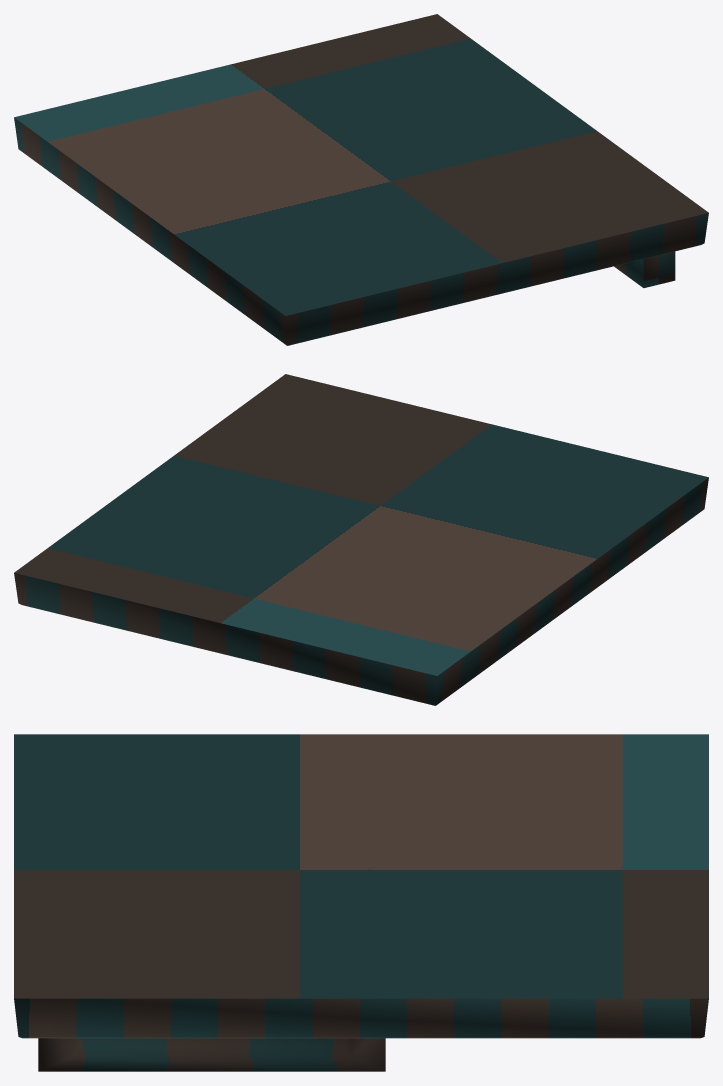
File: p6_con_locker_door_LOD0.obj
The picture shows the model from 3 angles, top to bottom: view 1: azimuth 30°, elevation 25°; view 2: azimuth 150°, elevation 25°; view 3: azimuth 270°, elevation 25°; orthographic projection. The views are drawn at different scales.
Parts seen in each view (by area): view 1: mtl_p6_con_locker_door; view 2: mtl_p6_con_locker_door; view 3: mtl_p6_con_locker_door.
Boxes of the visible parts, bbox=[...] form: mtl_p6_con_locker_door: bbox=[14, 14, 708, 345]; mtl_p6_con_locker_door: bbox=[14, 374, 708, 705]; mtl_p6_con_locker_door: bbox=[14, 734, 708, 1071].
Bounding box in the file's own units: 48.95 × 7.61 × 54.38.
